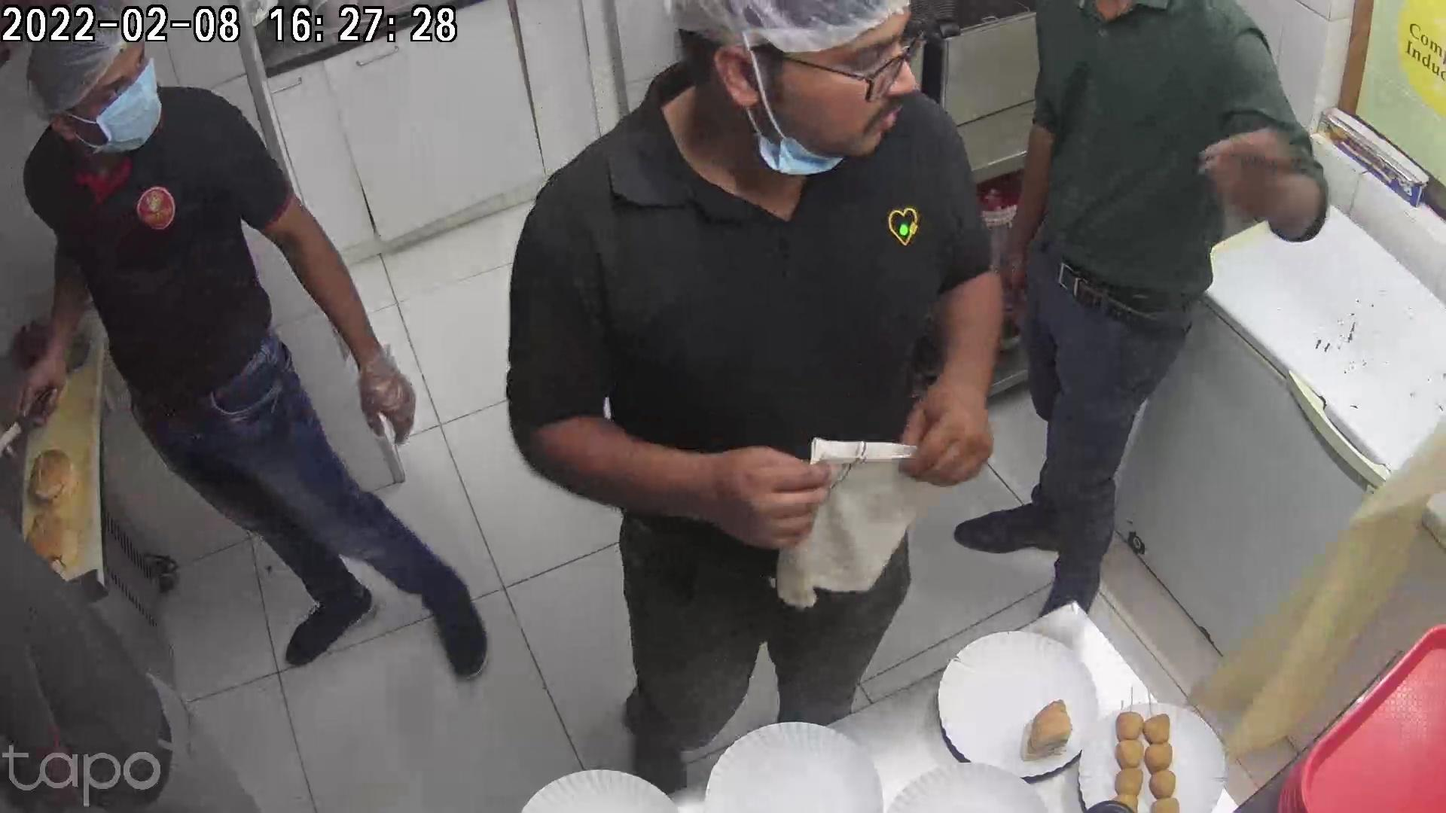gloves: (351, 333, 413, 444)
no_gloves: (654, 448, 819, 550)
